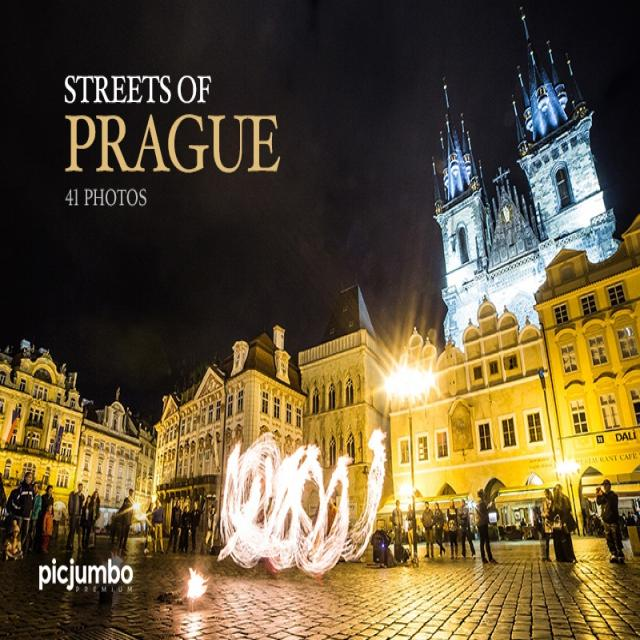body: (546, 479, 580, 566), (595, 479, 626, 563), (11, 469, 36, 556), (473, 486, 498, 566), (63, 479, 85, 555), (32, 484, 54, 556), (456, 496, 477, 562), (116, 486, 135, 554), (541, 487, 556, 562), (2, 520, 25, 563), (165, 498, 182, 556), (326, 494, 340, 560), (78, 492, 92, 557), (421, 499, 436, 558), (152, 495, 166, 556), (446, 497, 459, 561), (432, 501, 446, 558), (188, 500, 203, 552), (178, 502, 192, 556), (41, 503, 54, 556), (204, 503, 218, 550), (142, 502, 154, 556), (578, 507, 596, 538), (625, 510, 640, 544), (392, 498, 403, 544), (88, 488, 102, 524), (405, 502, 414, 557), (518, 515, 528, 540), (31, 479, 40, 498)
